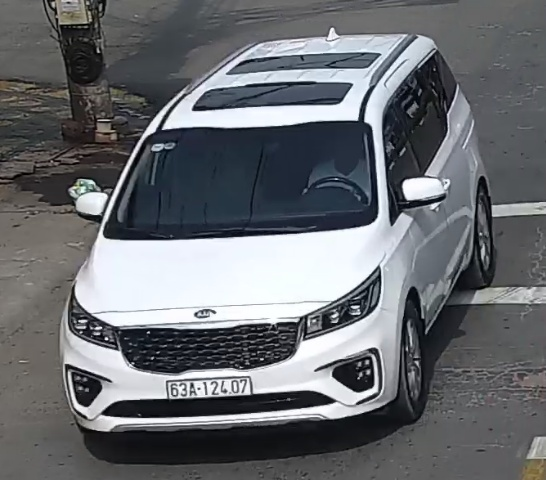vehicle plate: (161, 372, 262, 399)
